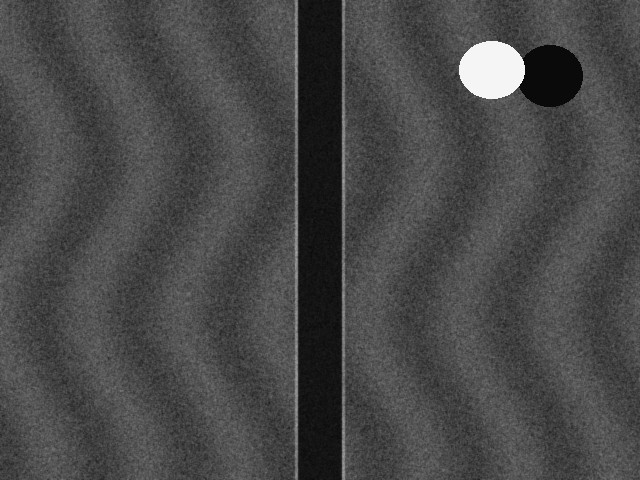Plastic Debris: (459, 41, 524, 98)
